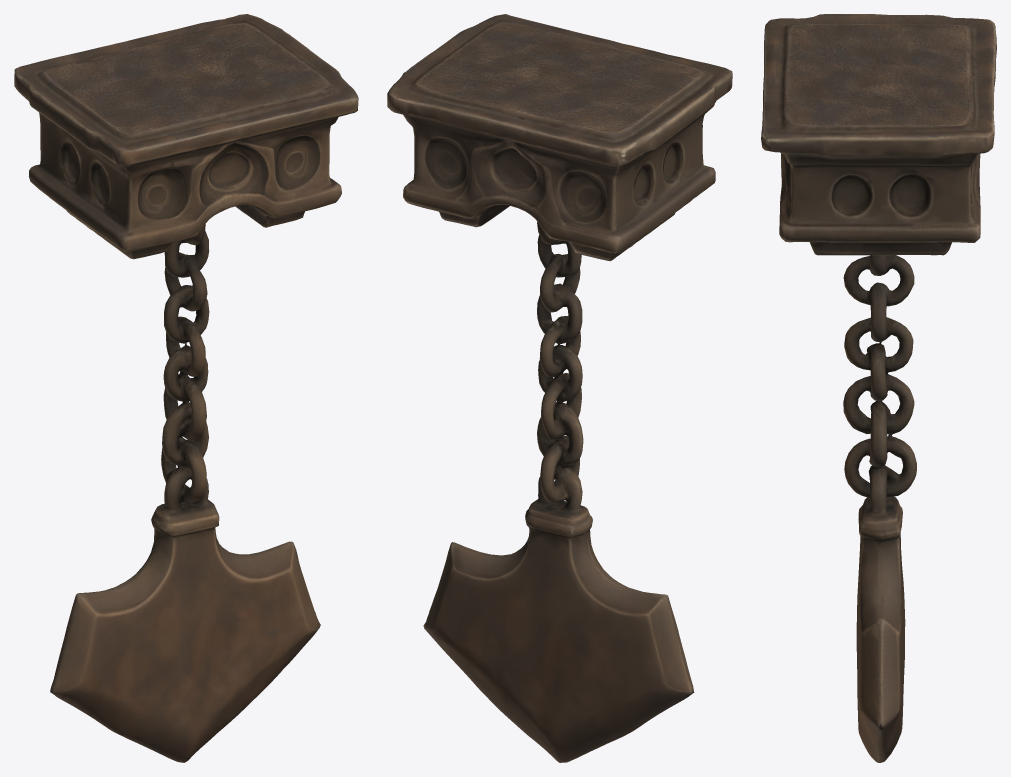
File: swinging_blade.glb
3 renders of one model, left to right at view 1: azimuth 30°, elevation 25°; view 2: azimuth 150°, elevation 25°; view 3: azimuth 270°, elevation 25°, orthographic.
Size of the model in its own units: 0.829 by 2 by 0.6208.
1 material, 1 textured.
